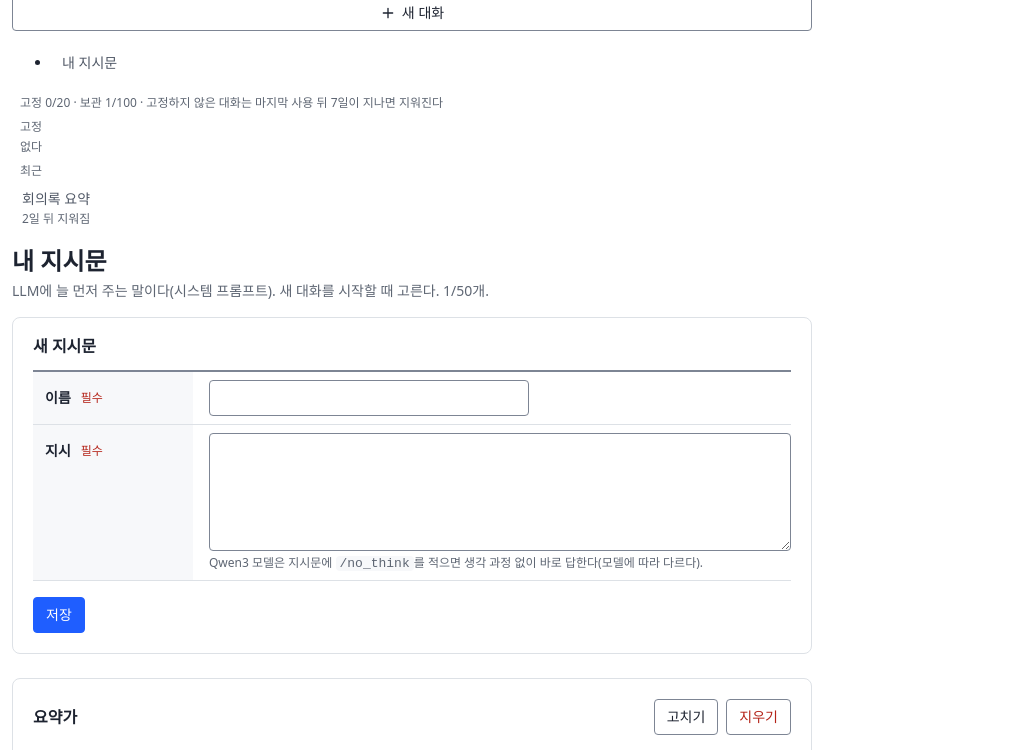
Scenario: 지시문 저장·고치기·지우기 (FR-1125~1129) › 고치기는 그 카드 자리의 폼으로 고치고 PATCH한다
Click the button with aria-label "요약가 고치기" at (686, 717), box x1=654 y1=699 x2=718 y2=735
(page scrolled)
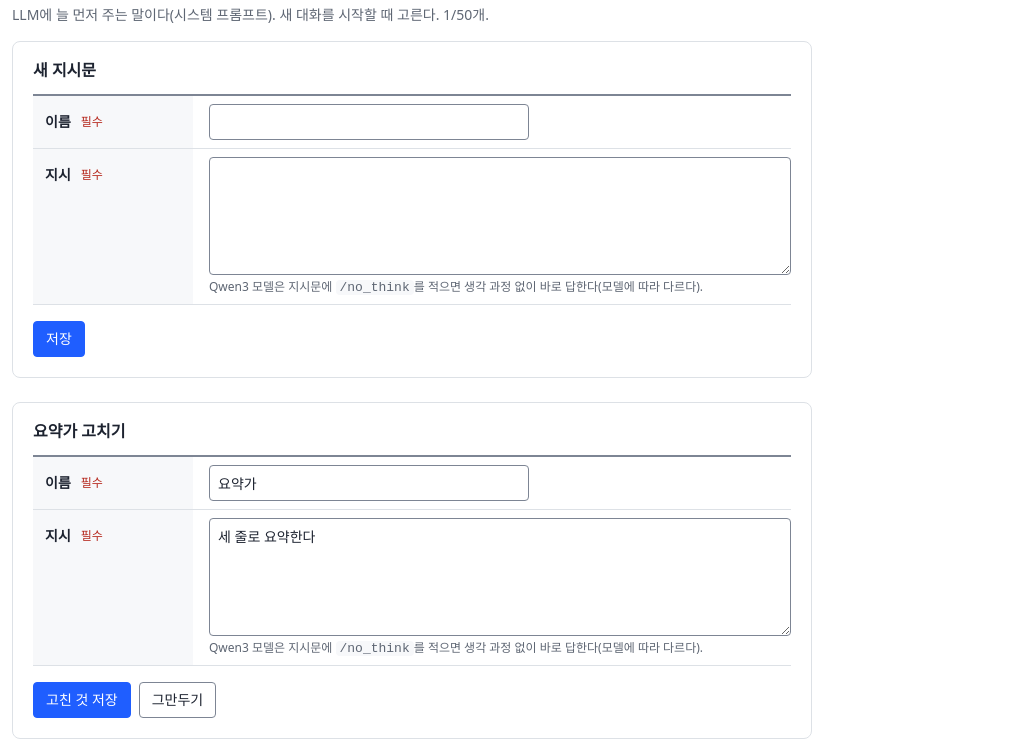
Replace the text in the text box labelled "지시" below "요약가 고치기" with "다섯 줄로 요약한다" at (500, 577), box x1=209 y1=518 x2=791 y2=636
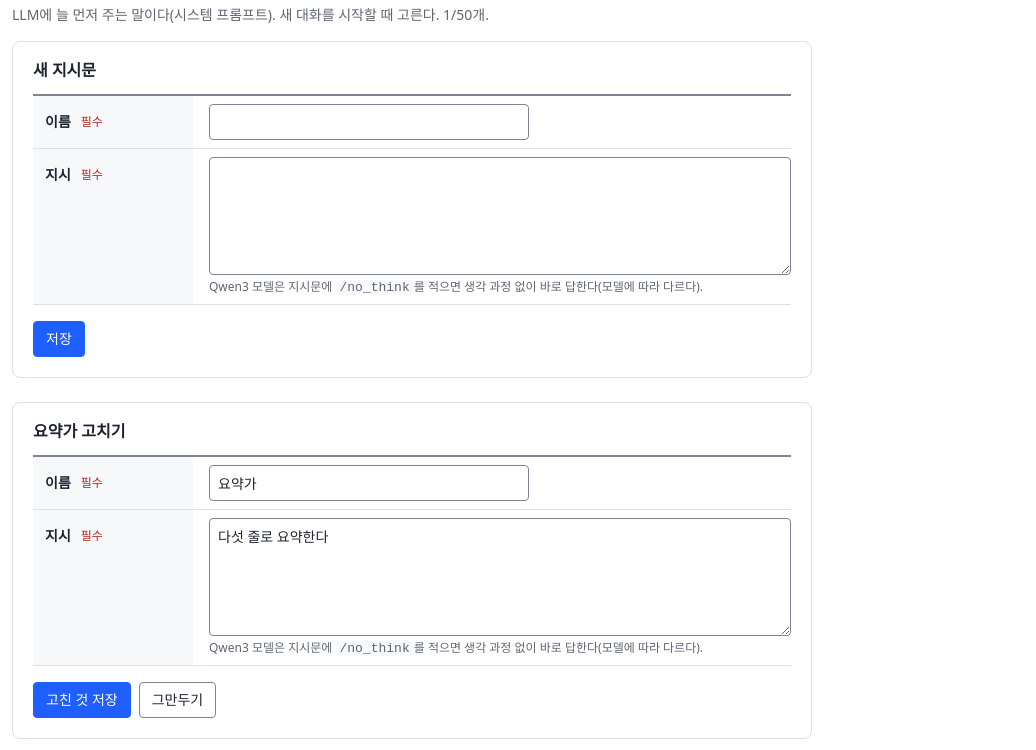
Click the button "고친 것 저장" at (82, 700), box x1=33 y1=682 x2=131 y2=718
(page scrolled)
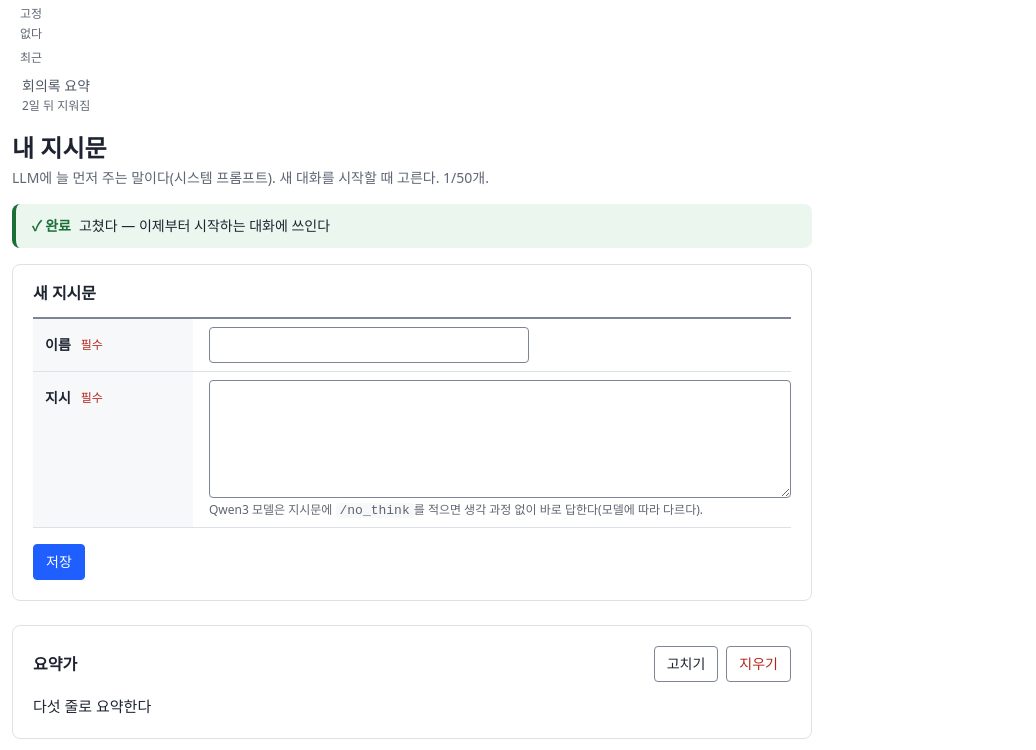
Result: the message reads "고쳤다 — 이제부터 시작하는 대화에 쓰인다" at x1=79 y1=216 x2=330 y2=235
Result: the element "요약가" shows "다섯 줄로 요약한다" at x1=33 y1=696 x2=151 y2=716
